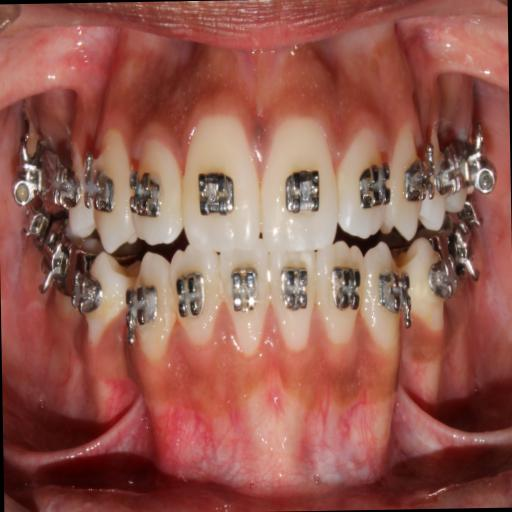correct_brace: (408, 236, 450, 338), (81, 251, 126, 339), (281, 160, 325, 220), (196, 164, 236, 220), (125, 278, 158, 342), (358, 160, 394, 218), (174, 270, 208, 326), (83, 160, 115, 219), (378, 262, 413, 315), (404, 152, 435, 208), (332, 264, 361, 315), (128, 172, 162, 214), (428, 253, 458, 299), (73, 271, 101, 311)
incorrect_brace: (338, 128, 386, 238), (317, 246, 366, 346), (170, 252, 220, 344)
